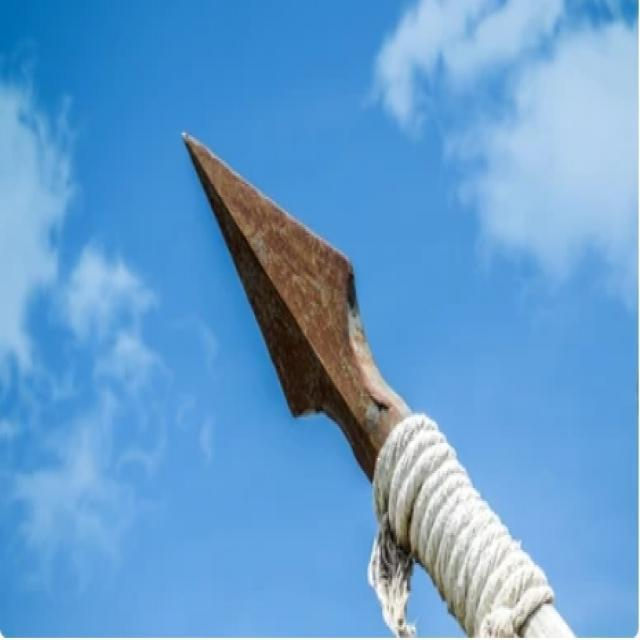spear: (172, 120, 582, 639)
